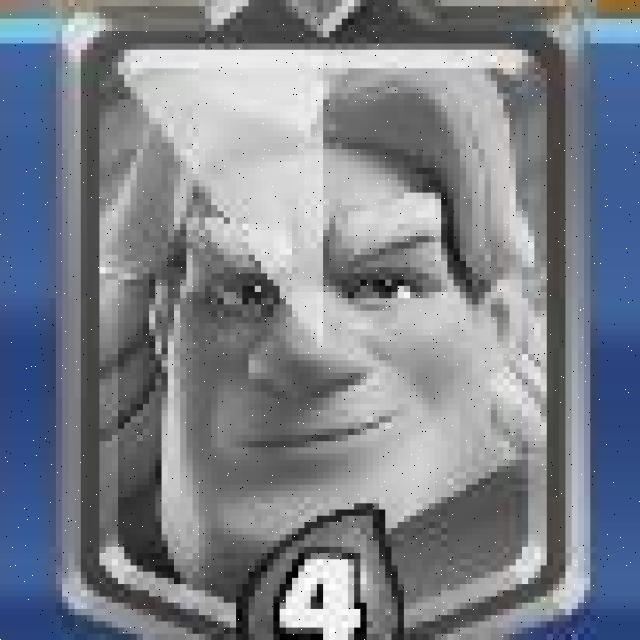Golden_Knight: (62, 9, 584, 640)
